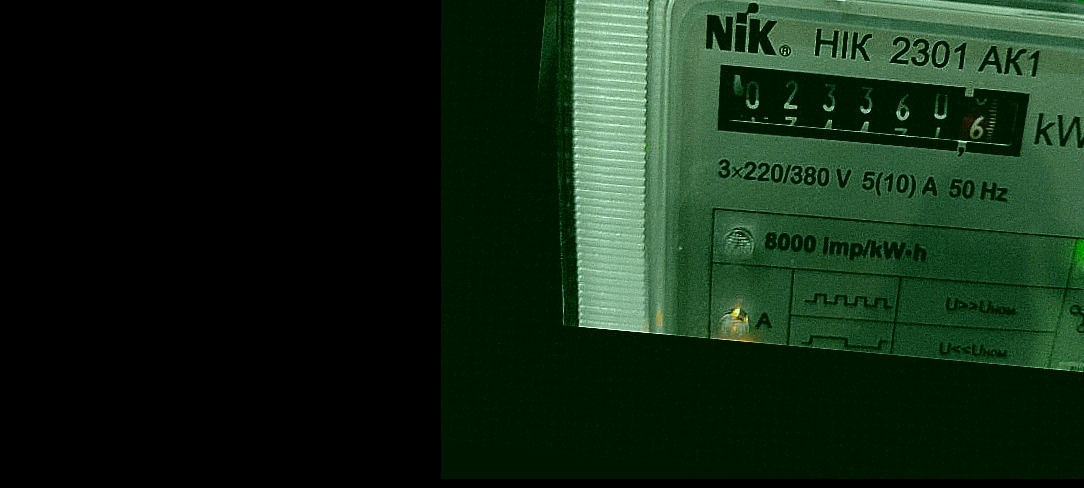0: (740, 76, 764, 110), (931, 89, 951, 121)
2: (778, 76, 804, 112)
3: (816, 79, 840, 113), (855, 82, 877, 114)
6: (891, 88, 914, 122), (964, 110, 988, 141)
screen: (695, 45, 1044, 173)
